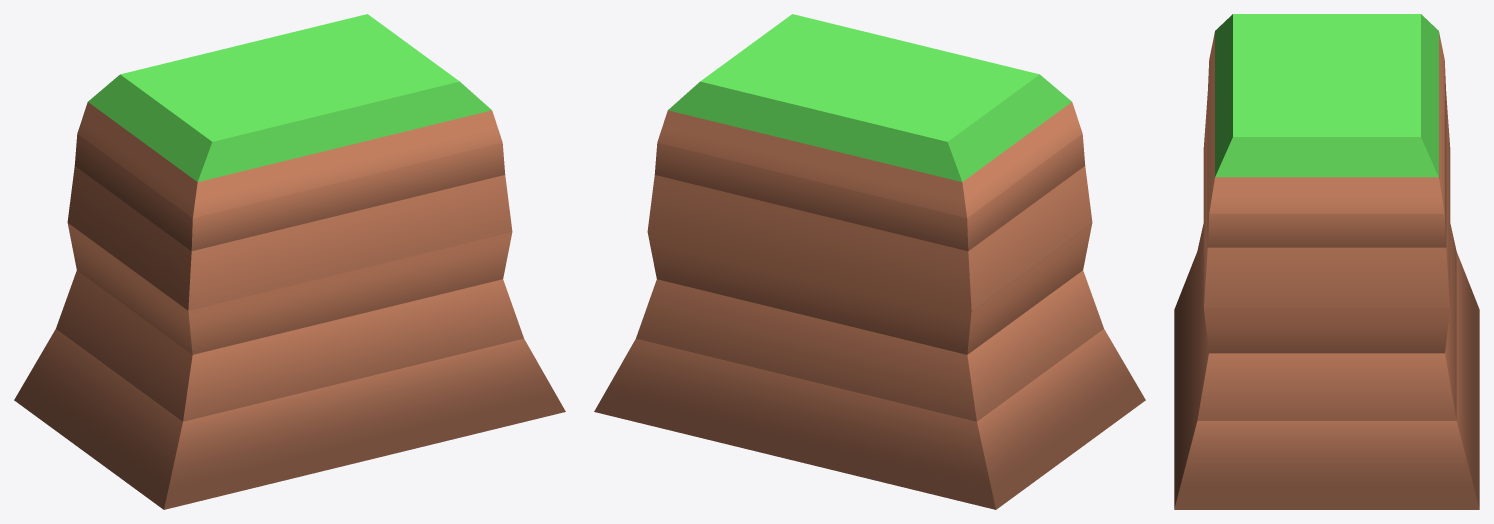
The model's file is StoneWall008.fbx.
3 views of the same model, side by side, from view 1: azimuth 30°, elevation 25°; view 2: azimuth 150°, elevation 25°; view 3: azimuth 270°, elevation 25° (orthographic).
Visible parts, largest first — view 1: StoneWall008; view 2: StoneWall008; view 3: StoneWall008.
Boxes of the visible parts, x1=… form: StoneWall008: x1=14, y1=14, x2=565, y2=509; StoneWall008: x1=594, y1=14, x2=1145, y2=509; StoneWall008: x1=1174, y1=14, x2=1479, y2=509.
Size of the model in its own units: 537 by 418 by 347.
